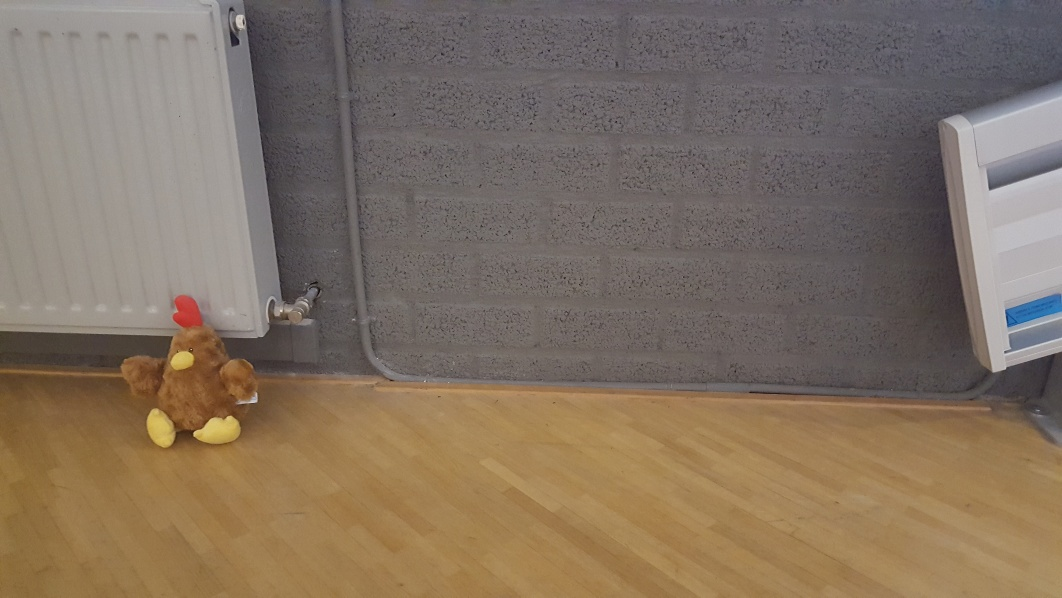chicken: (115, 296, 267, 456)
